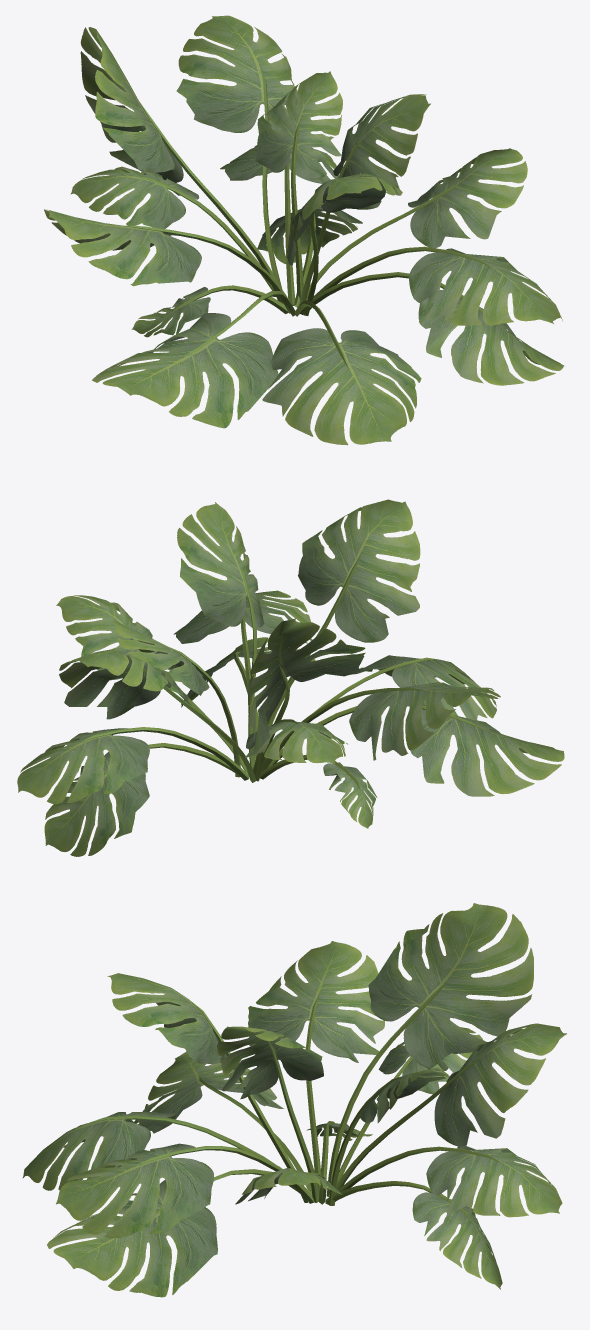
3 renders of one model, top to bottom at view 1: azimuth 30°, elevation 25°; view 2: azimuth 150°, elevation 25°; view 3: azimuth 270°, elevation 25°, orthographic. The views are drawn at different scales.
Parts seen in each view (by area): view 1: Tree_0, Tree_1; view 2: Tree_0, Tree_1; view 3: Tree_0, Tree_1.
Part boxes in pixels (<box>): Tree_0: <box>44,15,564,445</box>; Tree_1: <box>125,65,499,368</box>; Tree_0: <box>17,499,564,856</box>; Tree_1: <box>78,553,487,789</box>; Tree_0: <box>22,903,566,1297</box>; Tree_1: <box>87,978,502,1225</box>.
Size of the model in its own units: 1.91 by 1.14 by 1.92.
2 materials, 2 textured.
